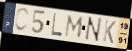5: (30, 10, 47, 35)
C: (13, 7, 30, 33)
K: (102, 18, 117, 45)
L: (50, 12, 64, 37)
M: (63, 14, 85, 40)
N: (83, 16, 103, 44)
